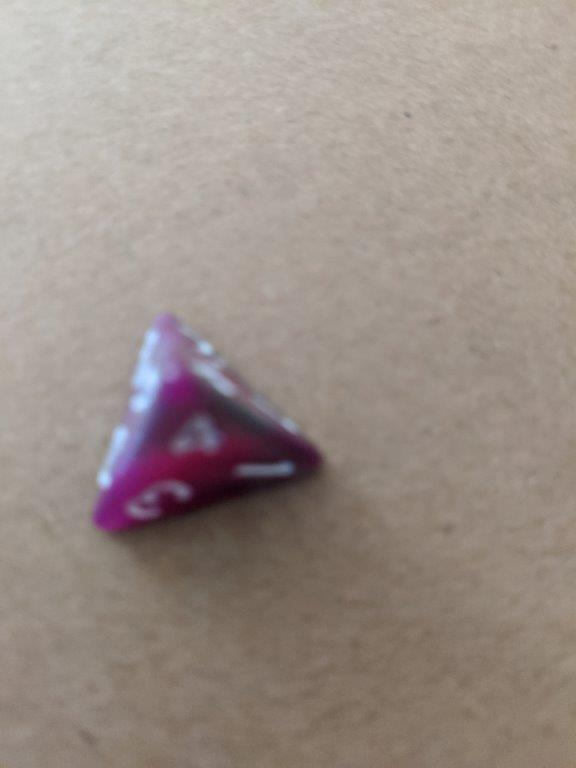d4-4: (92, 304, 330, 535)
